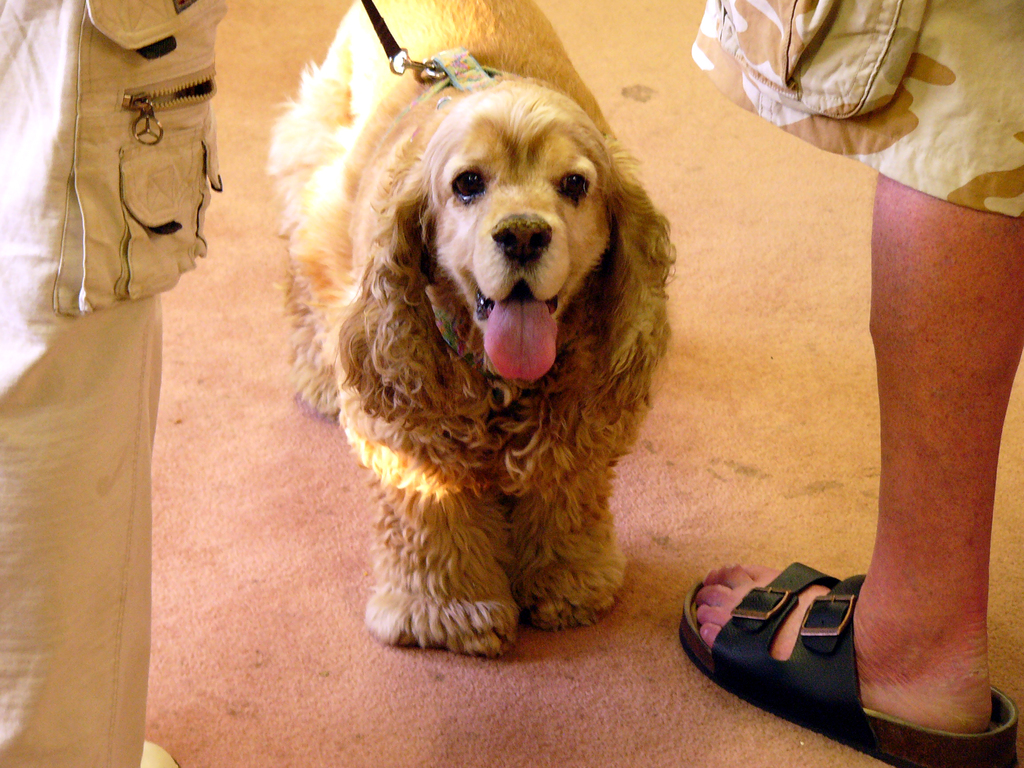Person: (676, 0, 1023, 767), (0, 0, 227, 768)
